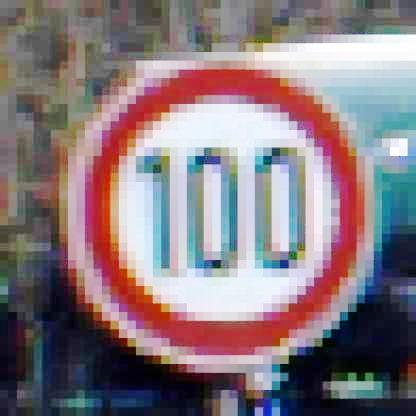Speed Limit -100-: (66, 60, 374, 369)
